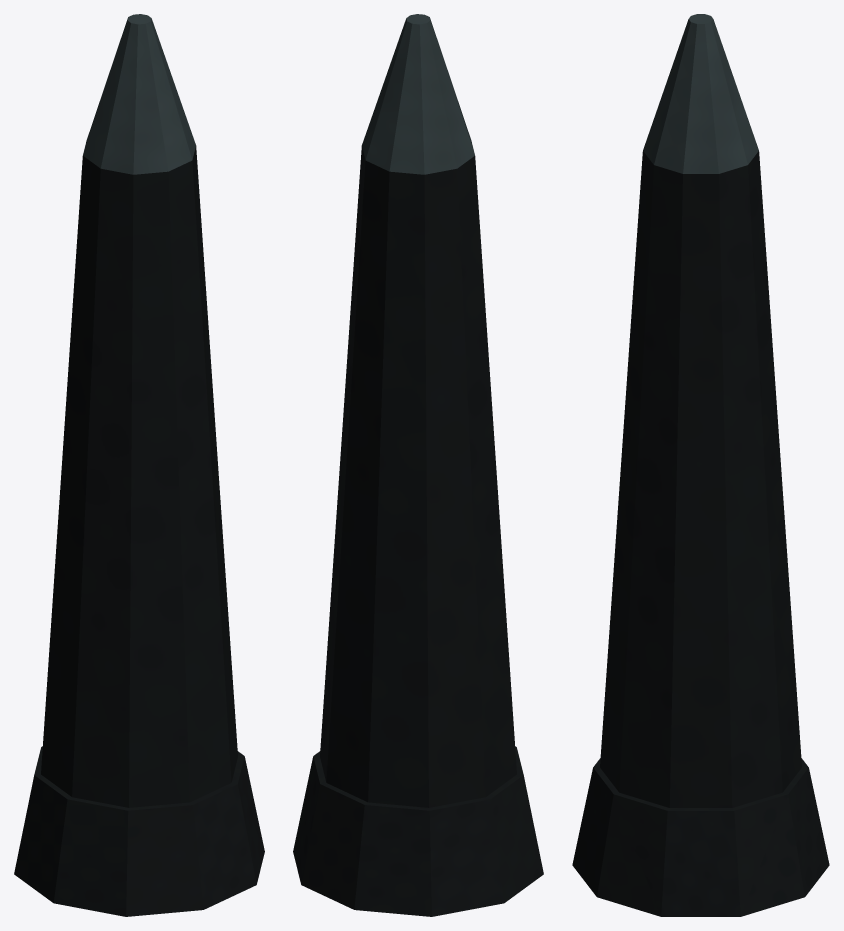
The model's file is blacksmith_punch.glb.
3 views of the same model, side by side, from view 1: azimuth 30°, elevation 25°; view 2: azimuth 150°, elevation 25°; view 3: azimuth 270°, elevation 25° (orthographic).
Parts seen in each view (by area): view 1: ForgedBody, StruckHead, HardenedPoint; view 2: ForgedBody, StruckHead, HardenedPoint; view 3: ForgedBody, StruckHead, HardenedPoint.
Part boxes in pixels (x1,y1,x2,y2): ForgedBody: (41, 145, 237, 807); StruckHead: (14, 746, 264, 916); HardenedPoint: (83, 14, 195, 174); ForgedBody: (320, 145, 516, 807); StruckHead: (293, 746, 543, 916); HardenedPoint: (362, 14, 474, 174); ForgedBody: (600, 151, 801, 807); StruckHead: (572, 758, 829, 916); HardenedPoint: (643, 14, 758, 173).
Bounding box in the file's own units: 0.059 × 0.225 × 0.062.
2 materials, 2 textured.
